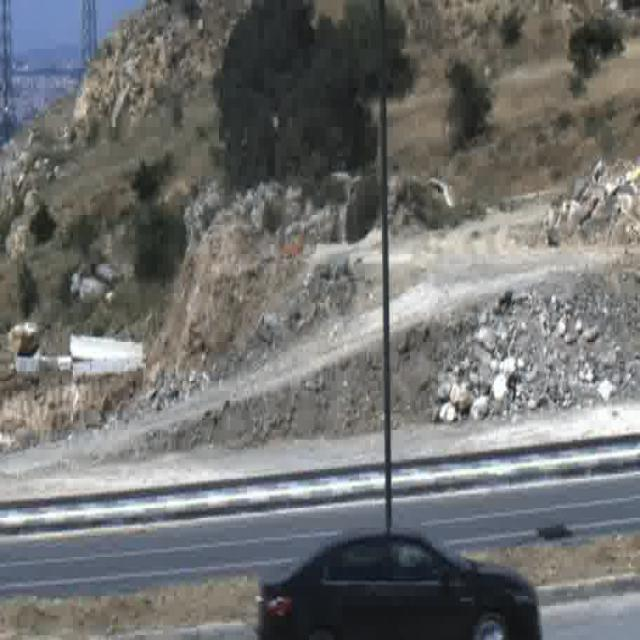Car: (255, 530, 542, 640)
